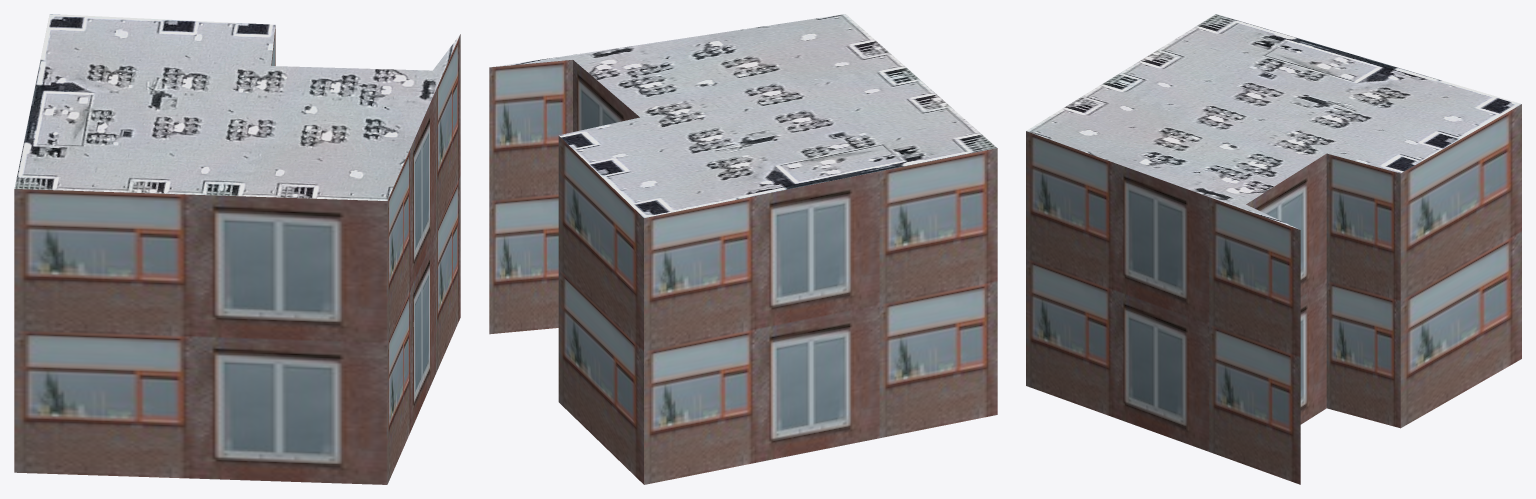
File: ResTex__5267.fbx
3 views of the same model, side by side, from view 1: azimuth 30°, elevation 25°; view 2: azimuth 150°, elevation 25°; view 3: azimuth 270°, elevation 25° (orthographic). The views are drawn at different scales.
Visible parts, largest first — view 1: CityEngineMaterial_19_m, CityEngineMaterial_15_m; view 2: CityEngineMaterial_19_m, CityEngineMaterial_15_m; view 3: CityEngineMaterial_19_m, CityEngineMaterial_15_m.
Boxes of the visible parts, box(x1,y1,x2,y2) form: CityEngineMaterial_19_m: box(14, 26, 460, 484); CityEngineMaterial_15_m: box(14, 14, 459, 200); CityEngineMaterial_19_m: box(489, 60, 997, 484); CityEngineMaterial_15_m: box(491, 14, 996, 217); CityEngineMaterial_19_m: box(1026, 104, 1521, 484); CityEngineMaterial_15_m: box(1026, 14, 1521, 229).
Bounding box in the file's own units: 10.91 × 6 × 10.58.
2 materials, 2 textured.
